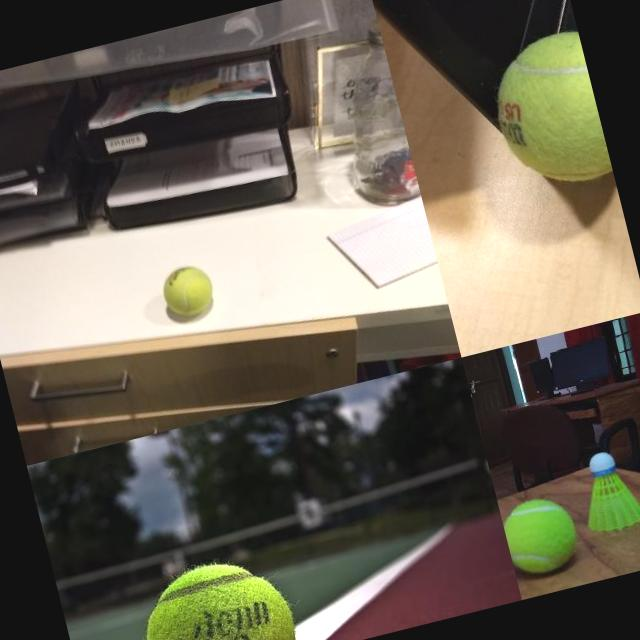tennis-ball: (478, 26, 612, 200), (128, 546, 302, 640), (498, 492, 582, 579), (157, 261, 217, 321)
